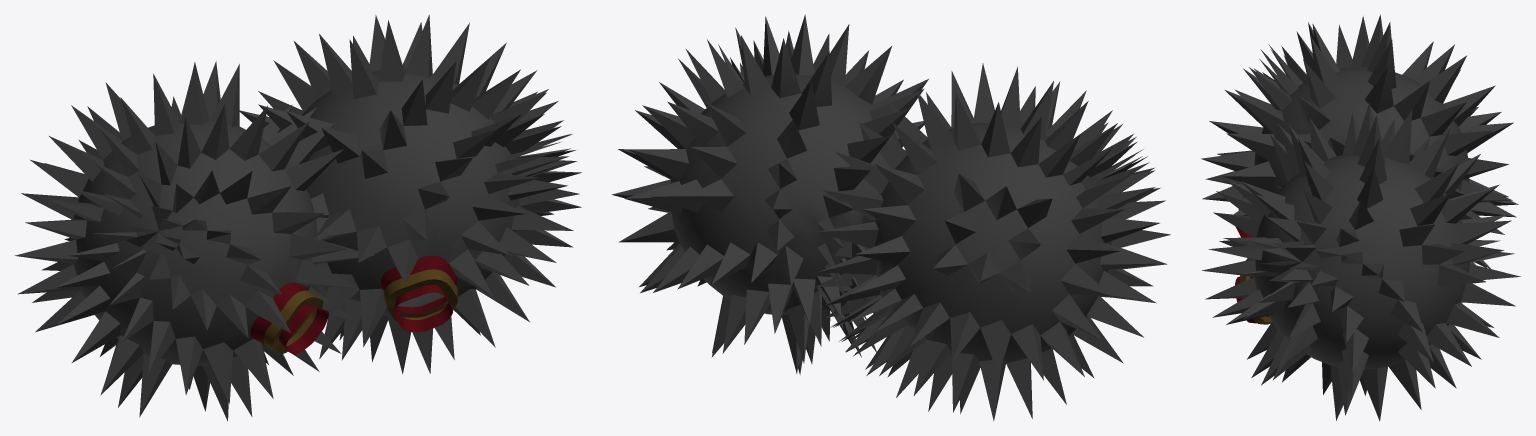
Rendered from claws.fbx.
3 views of the same model, side by side, from view 1: azimuth 30°, elevation 25°; view 2: azimuth 150°, elevation 25°; view 3: azimuth 270°, elevation 25° (orthographic). The views are drawn at different scales.
Visible parts, largest first — view 1: Sphere.001, Sphere.002; view 2: Sphere.001, Sphere.002; view 3: Sphere.002, Sphere.001.
Boxes of the visible parts, box(x1,y1,x2,y2) form: Sphere.001: box(14, 61, 375, 421); Sphere.002: box(239, 15, 581, 374); Sphere.001: box(814, 63, 1170, 421); Sphere.002: box(612, 14, 928, 374); Sphere.002: box(1202, 102, 1520, 421); Sphere.001: box(1201, 14, 1518, 268).
Bounding box in the file's own units: 20.36 × 12.51 × 12.46.
